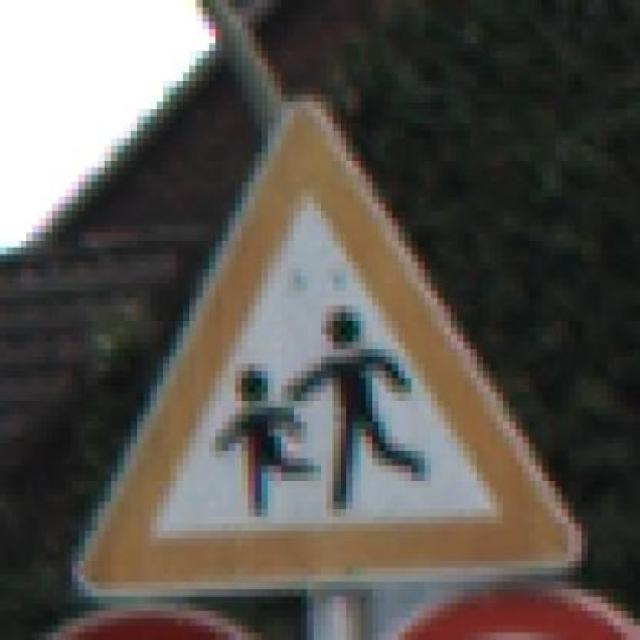Beware of children: (55, 95, 590, 596)
